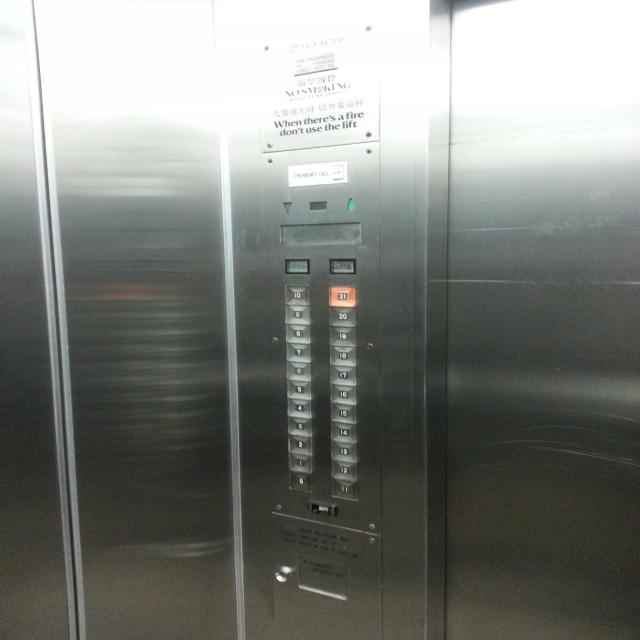1: (287, 450, 313, 474)
10: (284, 283, 310, 307)
11: (330, 476, 358, 502)
12: (330, 458, 357, 482)
13: (330, 439, 358, 463)
14: (330, 420, 358, 443)
15: (329, 400, 357, 424)
16: (328, 382, 358, 407)
17: (328, 363, 358, 388)
18: (328, 344, 358, 368)
19: (328, 324, 357, 348)
2: (286, 433, 312, 456)
20: (328, 305, 356, 329)
21: (328, 284, 356, 309)
3: (286, 415, 312, 437)
4: (286, 397, 312, 419)
5: (286, 378, 312, 400)
6: (285, 360, 311, 382)
7: (284, 341, 310, 364)
8: (284, 321, 311, 345)
9: (284, 303, 311, 327)
G: (288, 470, 313, 493)
text_close door: (328, 257, 356, 275)
text_open door: (284, 257, 310, 274)
